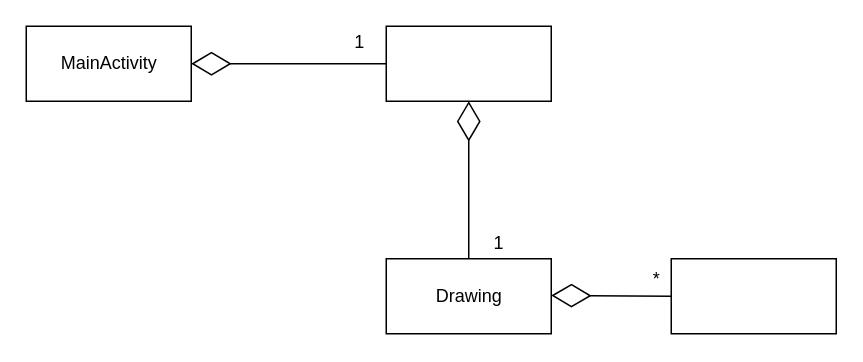
This 863x362 diagram has some shape labels left out. Here are the shapes that lost their labels. From the top down, the centre of each, then its label:
At point 468,63: "DrawingView".
At point 753,295: "FreeStyleLine".
